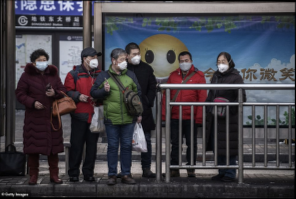with_mask: (33, 57, 48, 71), (178, 57, 192, 72), (115, 56, 128, 72), (216, 58, 229, 74), (128, 50, 141, 65), (86, 55, 99, 69)
